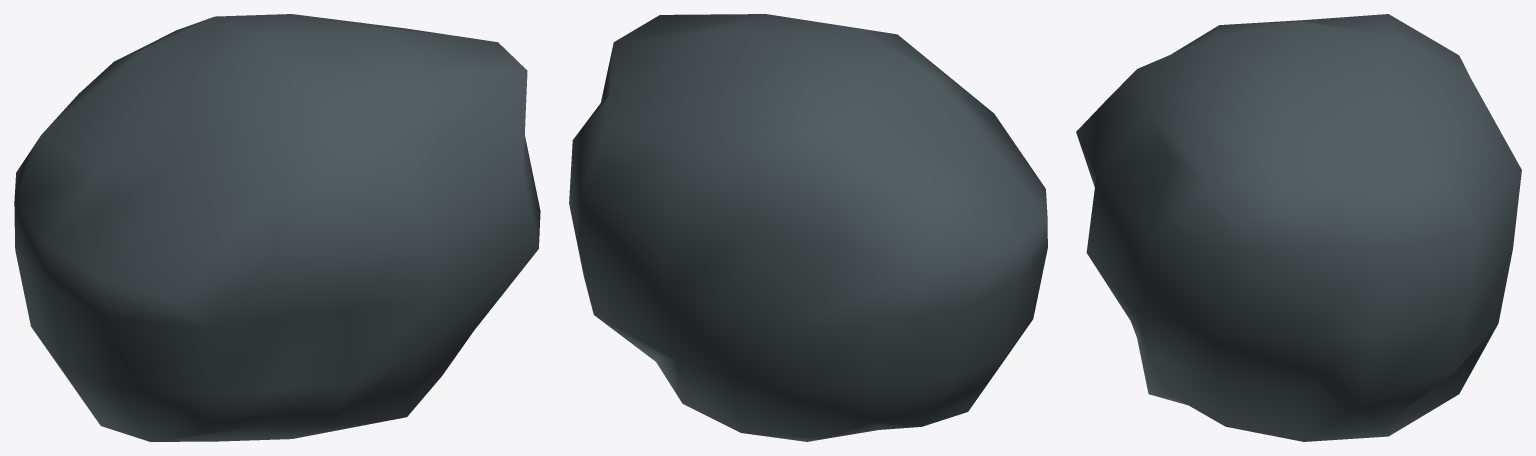
Rendered from Large Stone Full Model.fbx.
The picture shows the model from 3 angles, left to right: view 1: azimuth 30°, elevation 25°; view 2: azimuth 150°, elevation 25°; view 3: azimuth 270°, elevation 25°; orthographic projection. The views are drawn at different scales.
Parts seen in each view (by area): view 1: pCube1; view 2: pCube1; view 3: pCube1.
Boxes of the visible parts, left/top/right/bottom form: pCube1: left=14, top=14, right=540, bottom=441; pCube1: left=569, top=14, right=1047, bottom=441; pCube1: left=1076, top=14, right=1521, bottom=441.
Bounding box in the file's own units: 2.28 × 1.86 × 1.92.
